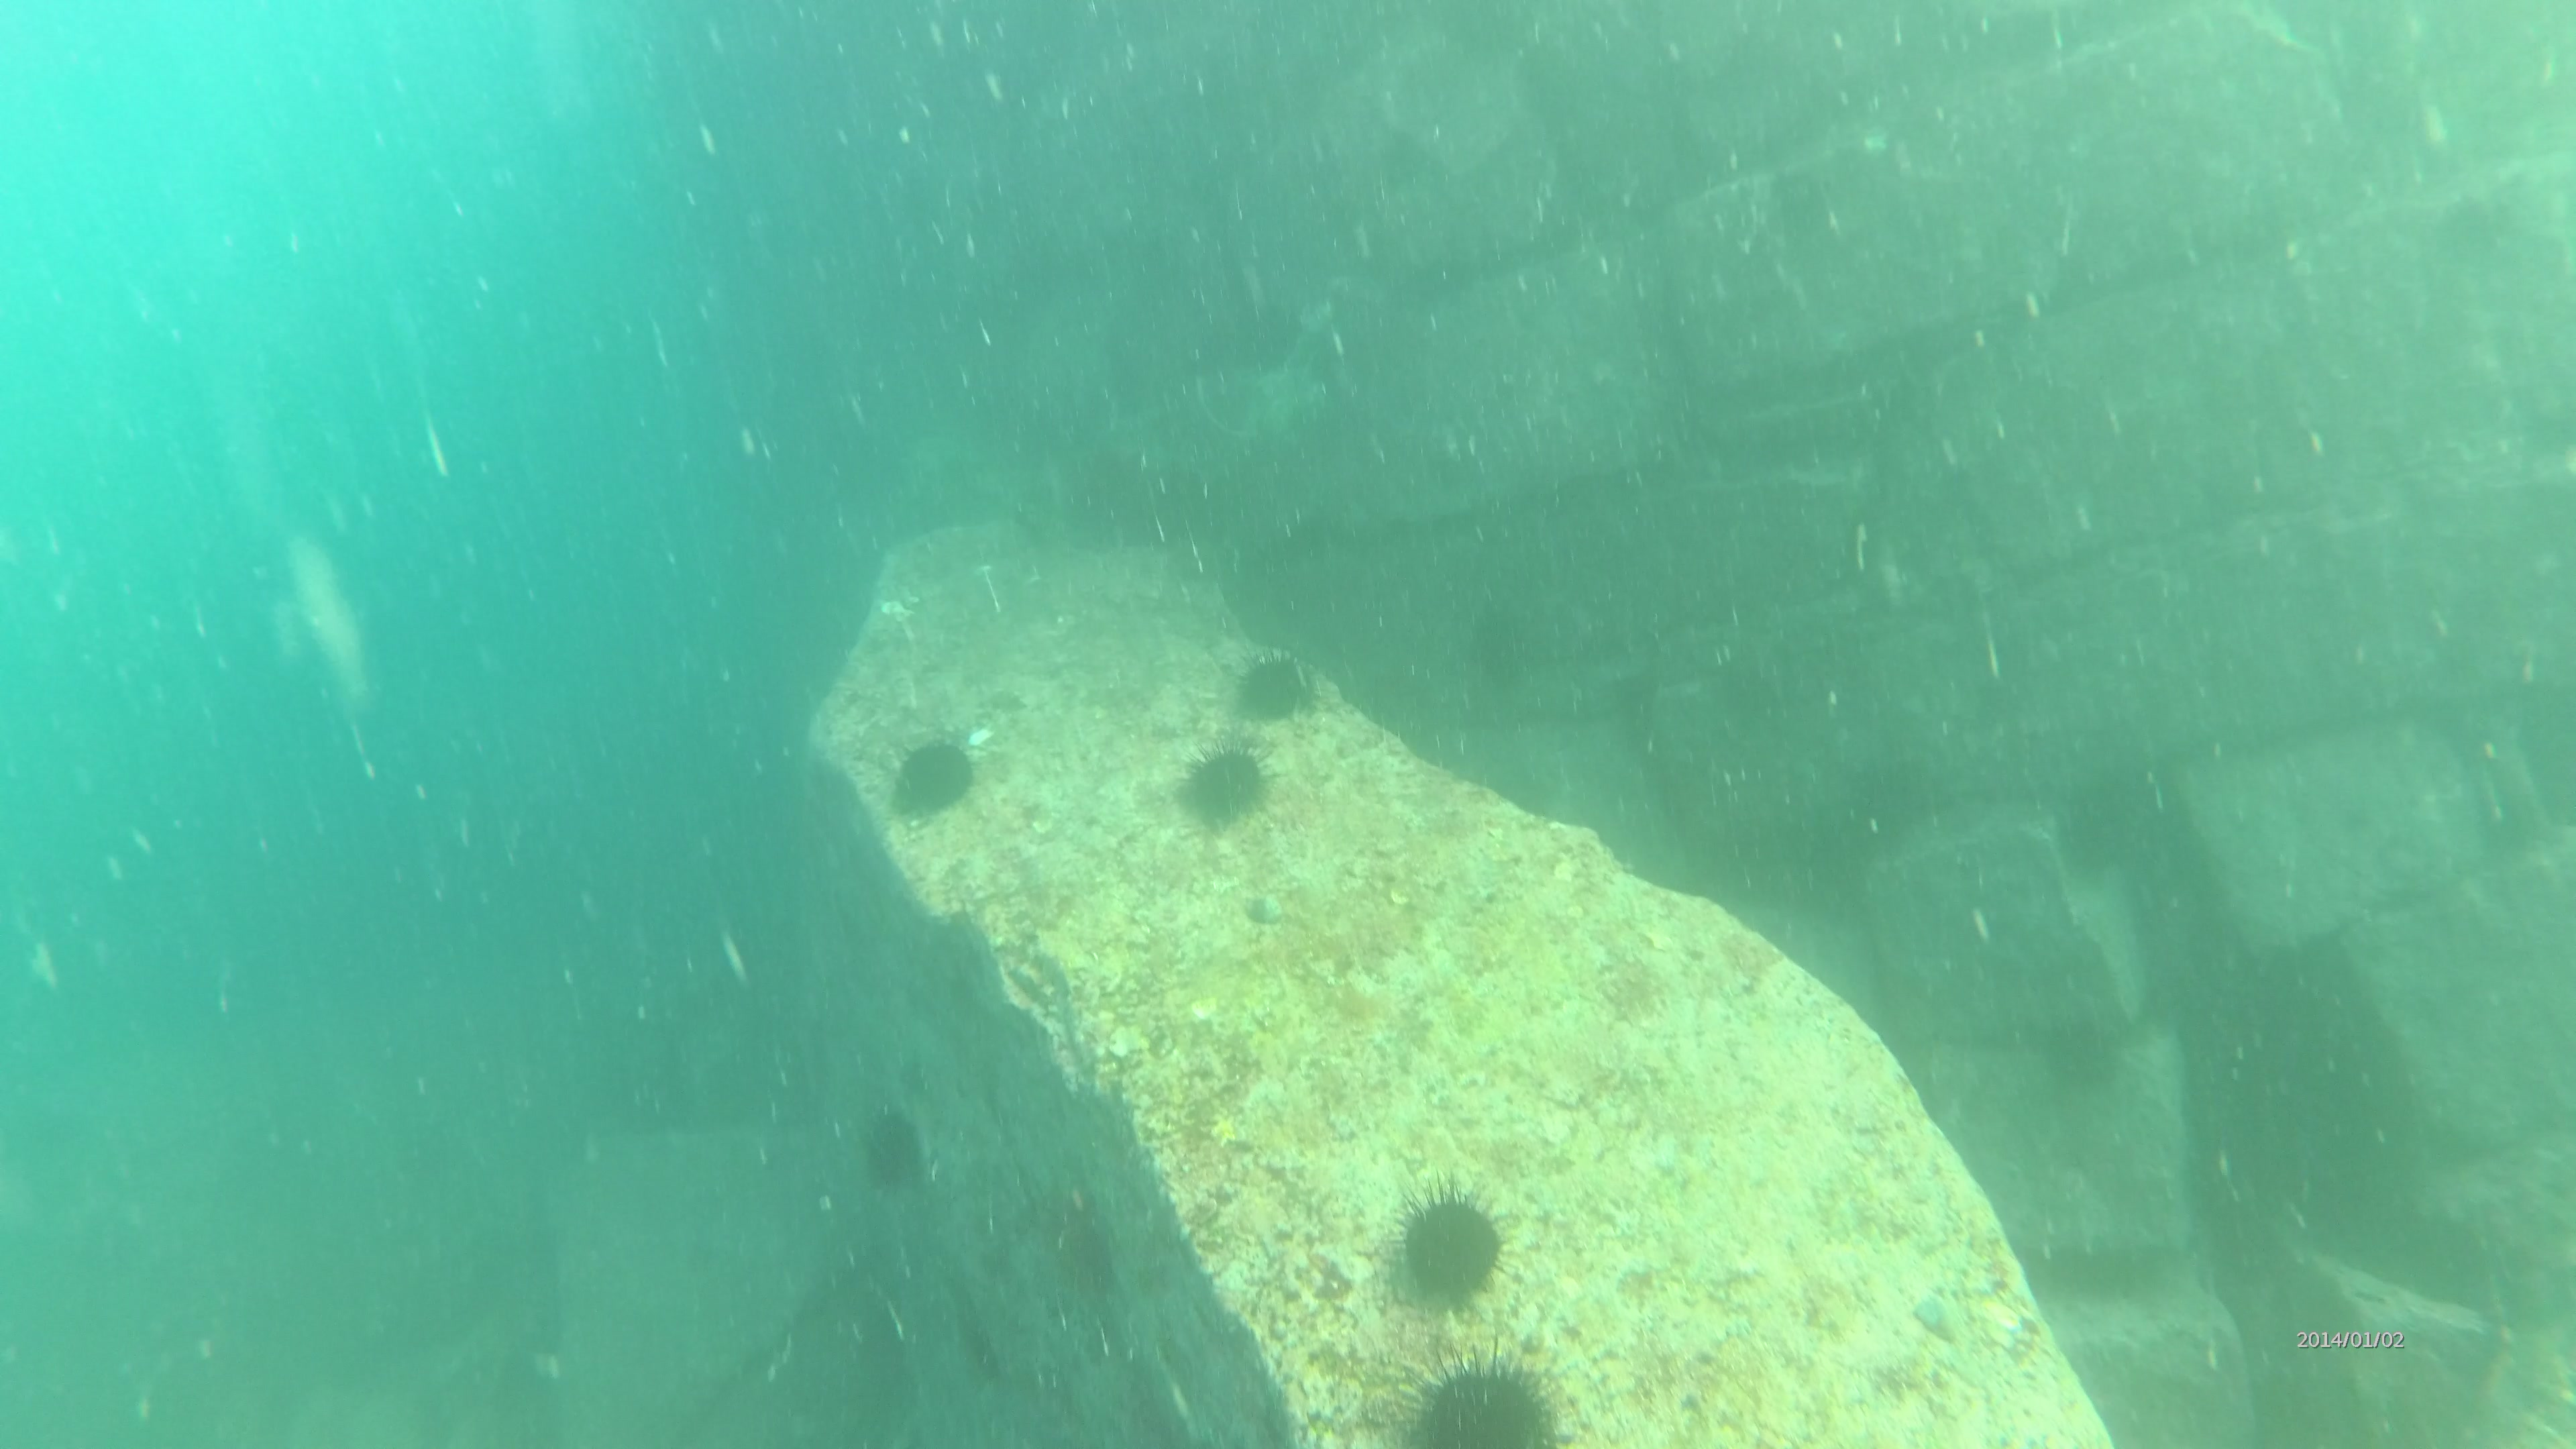echinus: (1407, 1348, 1576, 1444), (1398, 1180, 1502, 1290), (1187, 738, 1274, 832), (878, 738, 968, 810), (853, 1113, 931, 1194), (1235, 640, 1309, 725)
